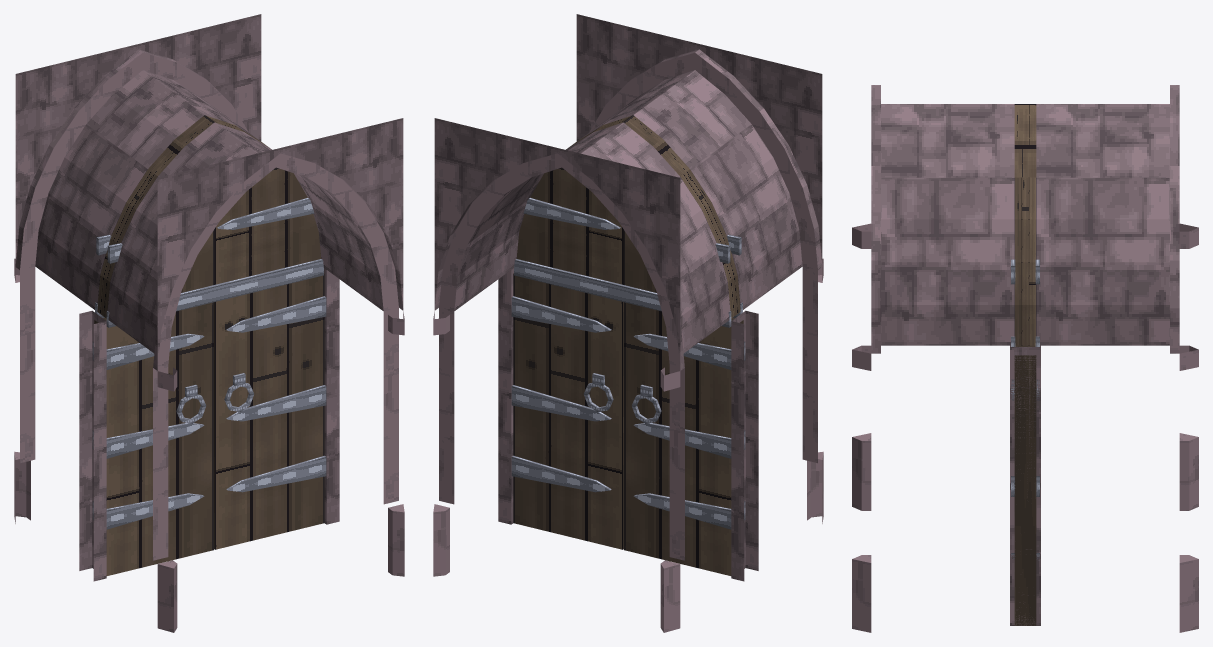
Rendered from door_normal_a.glb.
3 renders of one model, left to right at view 1: azimuth 30°, elevation 25°; view 2: azimuth 150°, elevation 25°; view 3: azimuth 270°, elevation 25°, orthographic. The views are drawn at different scales.
Parts seen in each view (by area): view 1: portal_front, portal_back, leaf_a, leaf_b, portal; view 2: portal_back, portal_front, leaf_a, leaf_b, portal; view 3: portal_back, portal_front, leaf_a, portal.
Part boxes in pixels (box(x1,y1,x2,y2)): portal_front: box(93, 118, 404, 632); portal_back: box(14, 14, 261, 570); leaf_a: box(214, 273, 326, 549); leaf_b: box(92, 302, 213, 575); portal: box(95, 115, 323, 327); portal_back: box(433, 118, 744, 632); portal_front: box(576, 14, 823, 570); leaf_a: box(511, 273, 623, 549); leaf_b: box(624, 302, 745, 575); portal: box(514, 115, 742, 327); portal_back: box(1025, 85, 1198, 632); portal_front: box(852, 85, 1025, 632); leaf_a: box(1011, 345, 1039, 625); portal: box(1011, 104, 1039, 346).
Bounding box in the file's own units: 2 × 3.5 × 2.25.
Materials: 1 (1 with a texture image).
